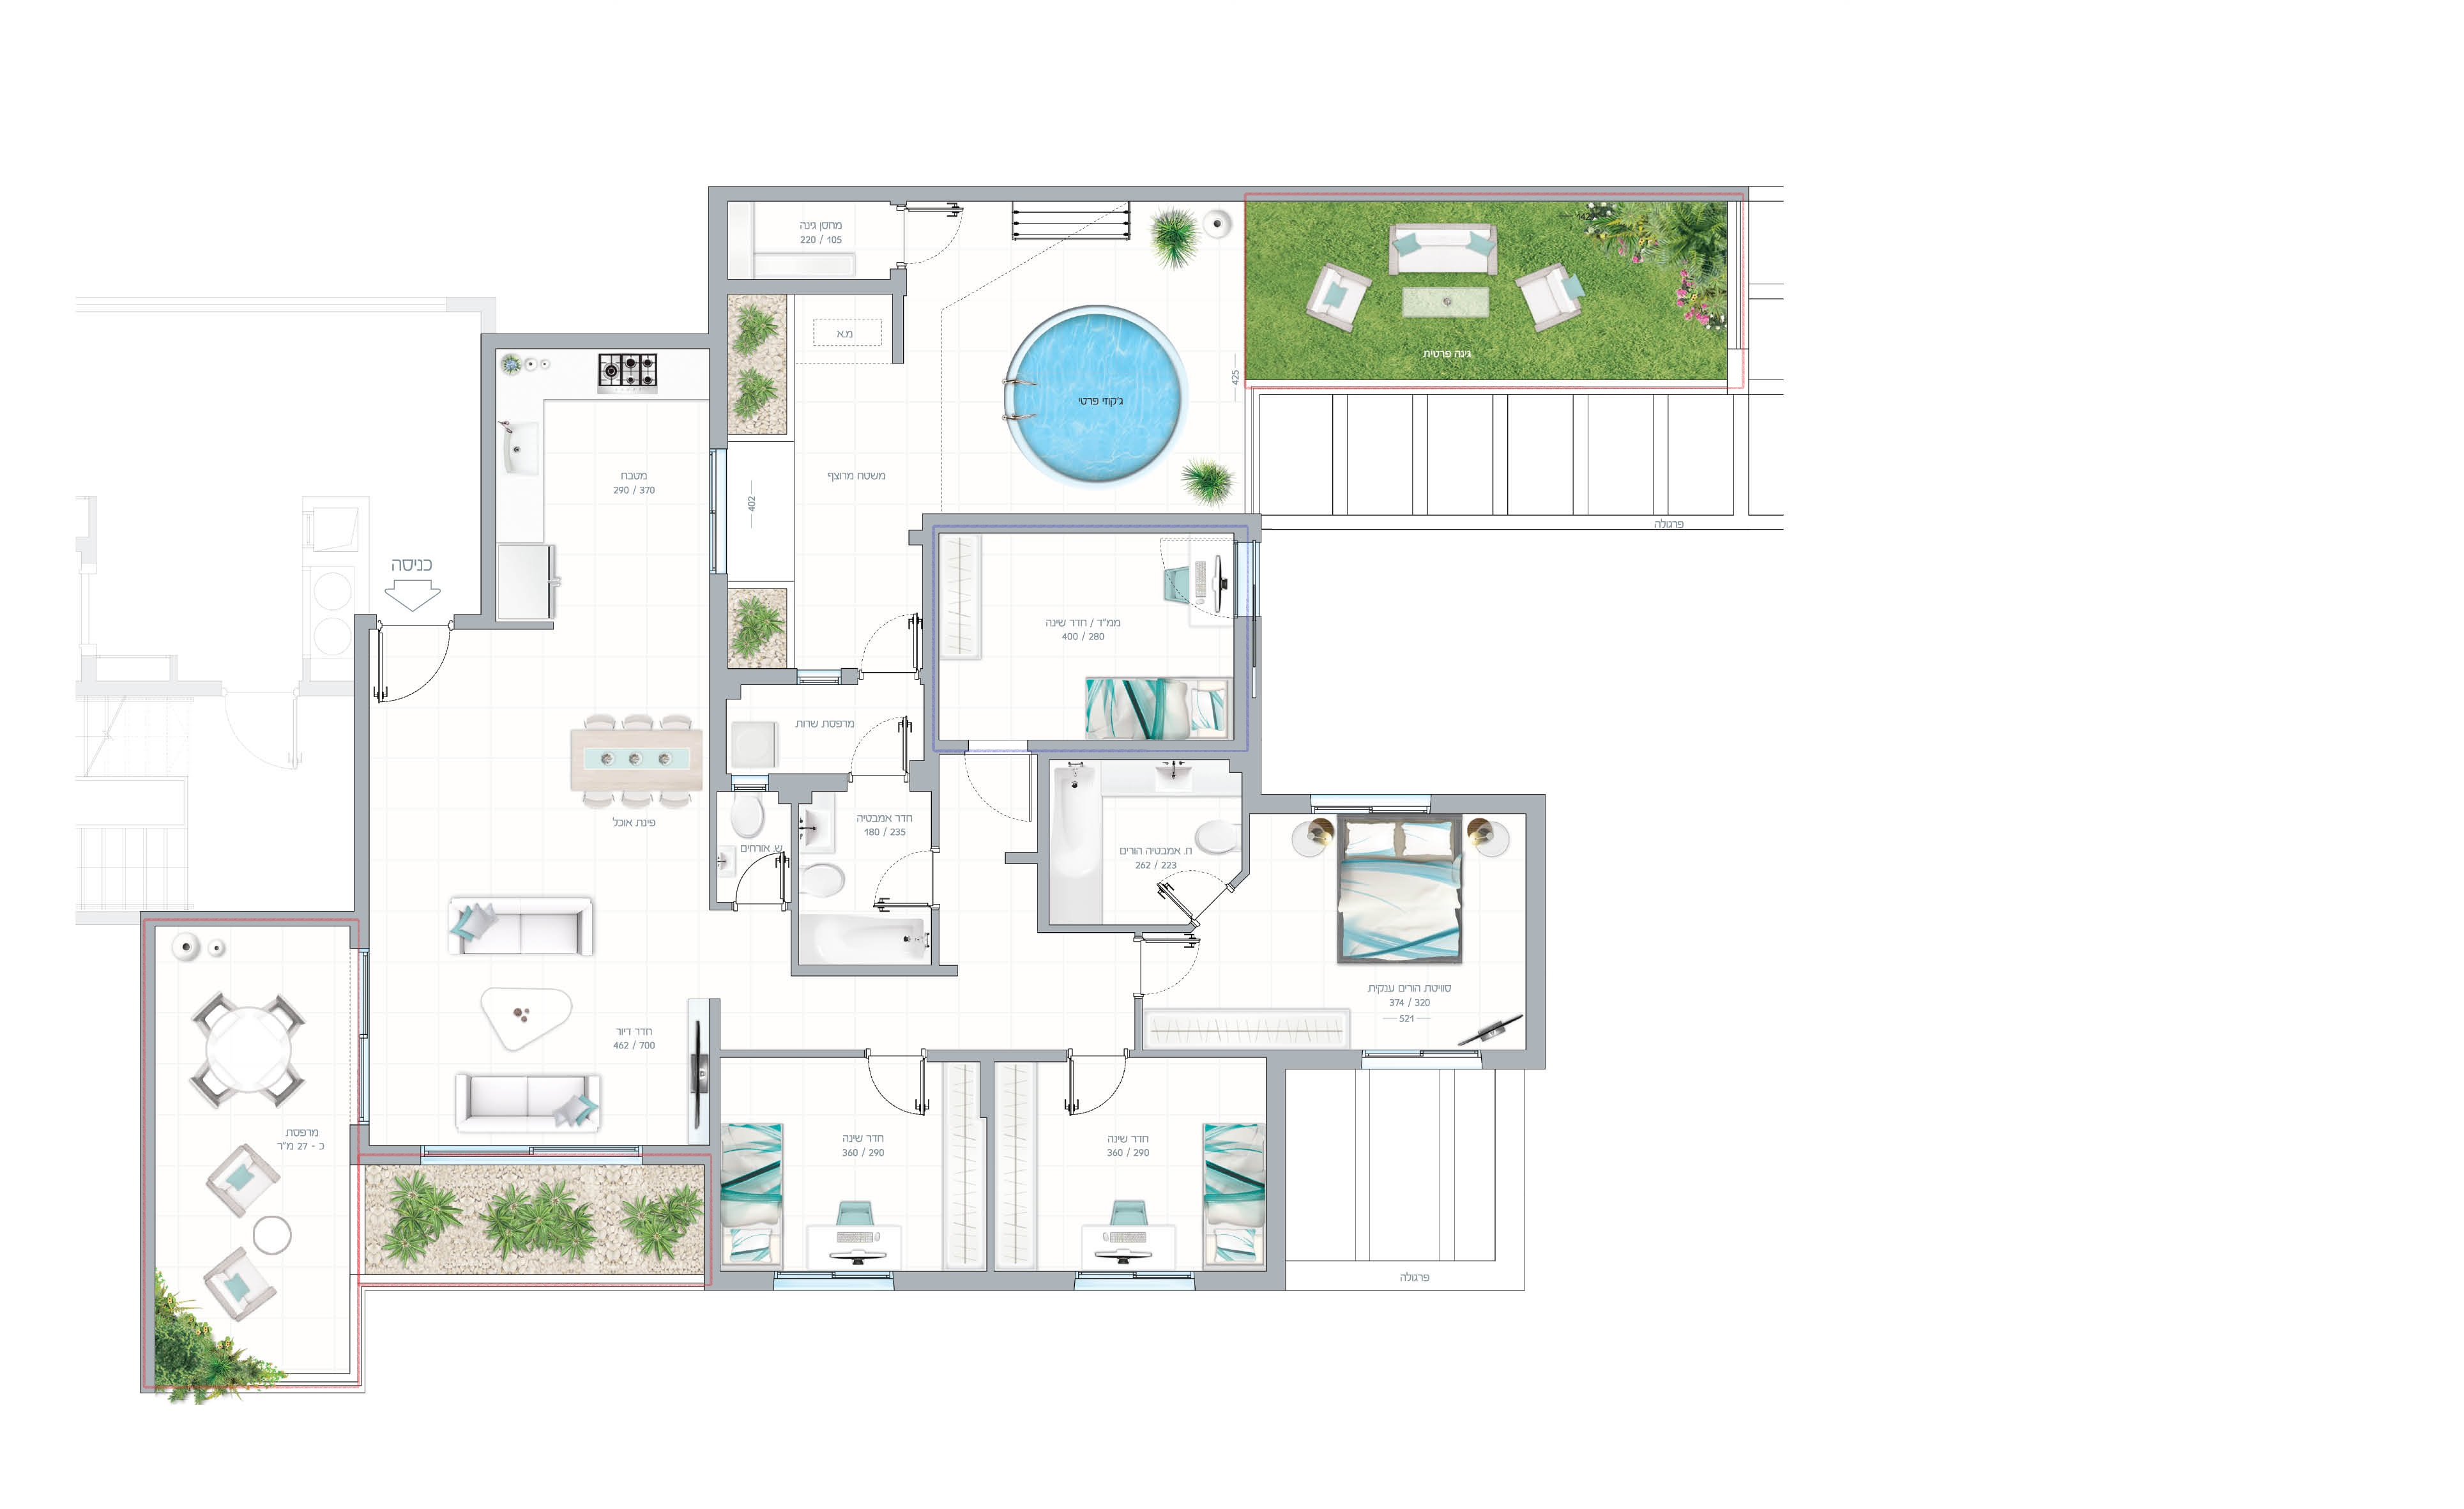balcony: (144, 924, 359, 1388)
no: (354, 620, 722, 1150), (720, 190, 1244, 507), (1241, 796, 1547, 1067), (991, 1053, 1285, 1291)
securityroom: (713, 1055, 986, 1282)
